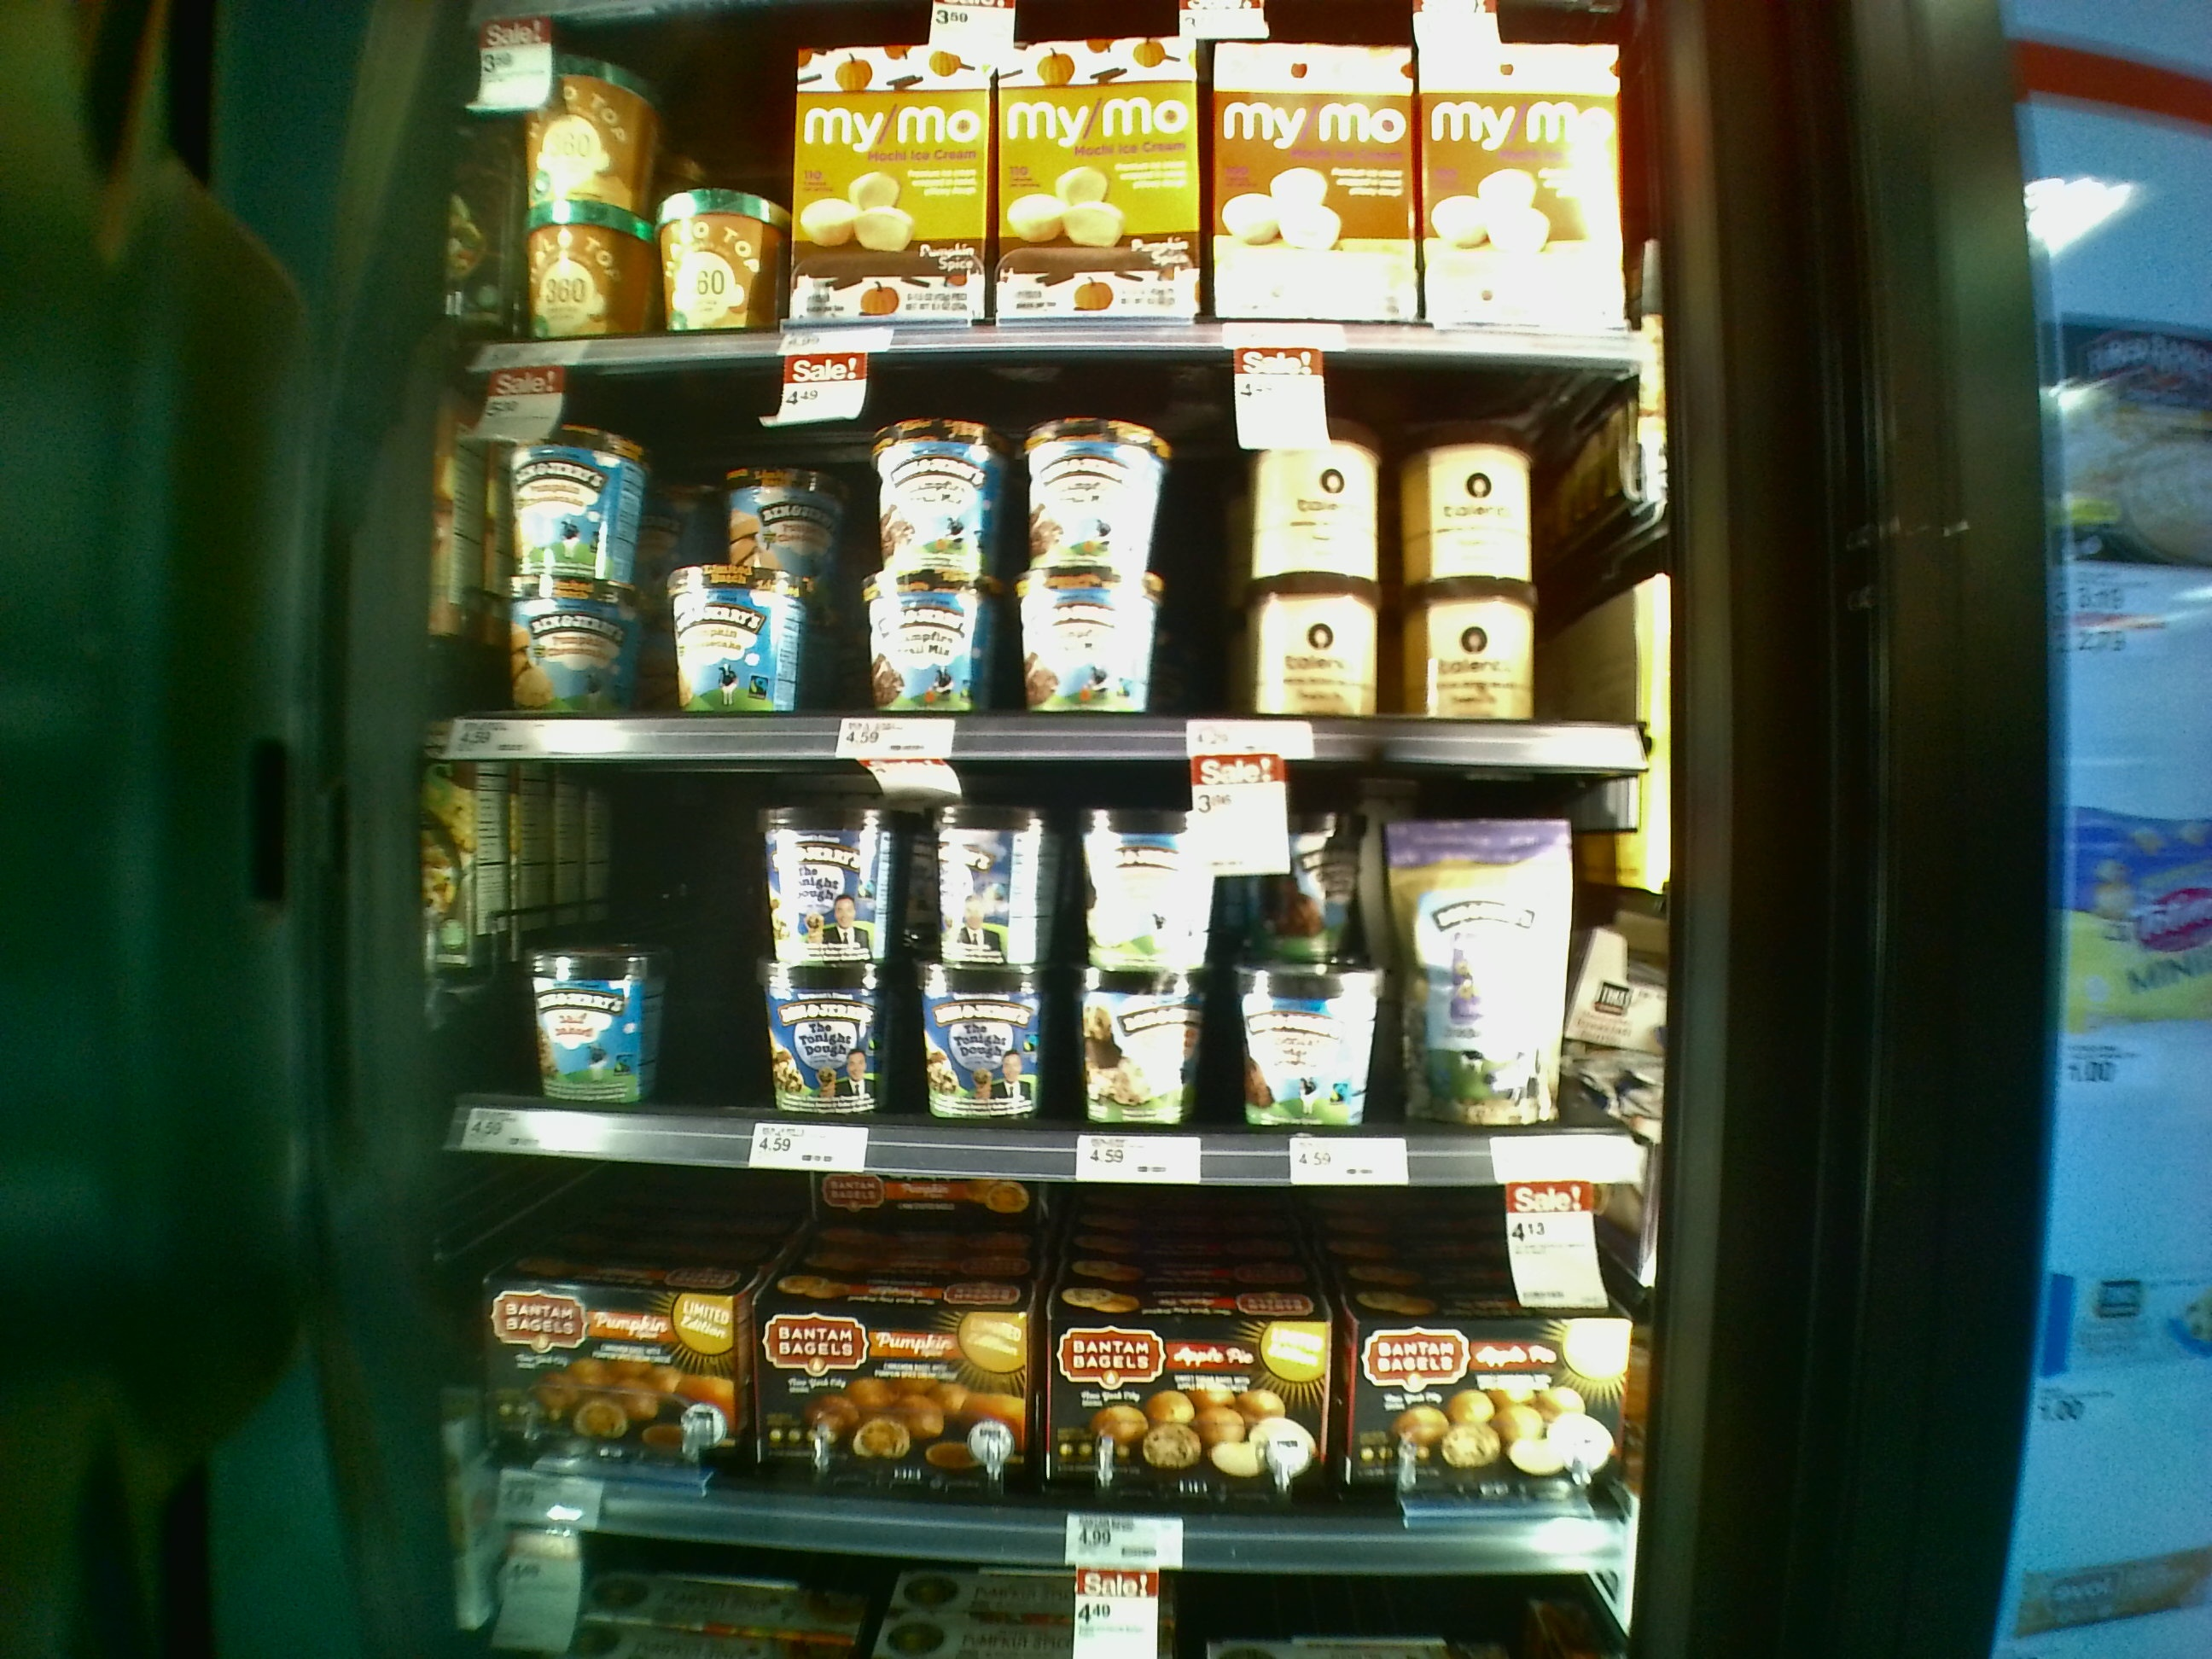shelf: (423, 718, 1656, 1185), (430, 1110, 1630, 1565), (439, 338, 1672, 763)
